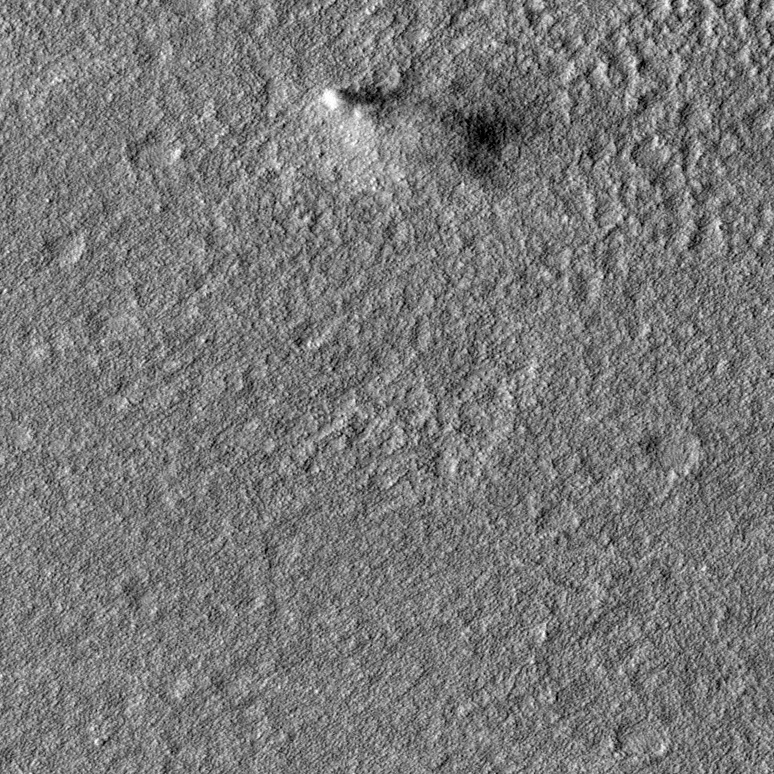dust_devil: (316, 82, 541, 191)
